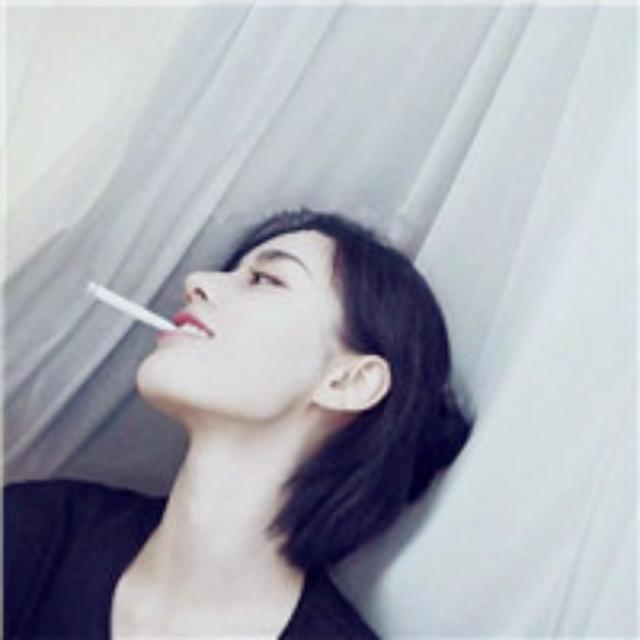SafeDriving: (240, 250, 302, 300)
Smoking: (81, 279, 170, 333)
